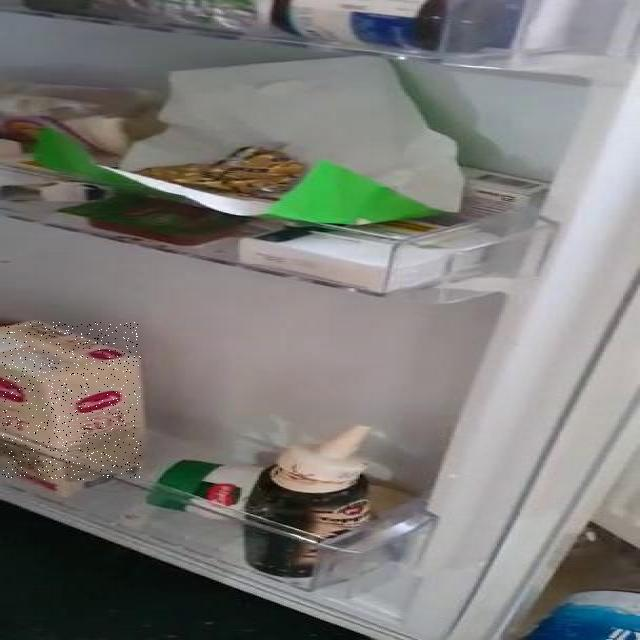milk: (2, 322, 141, 480)
